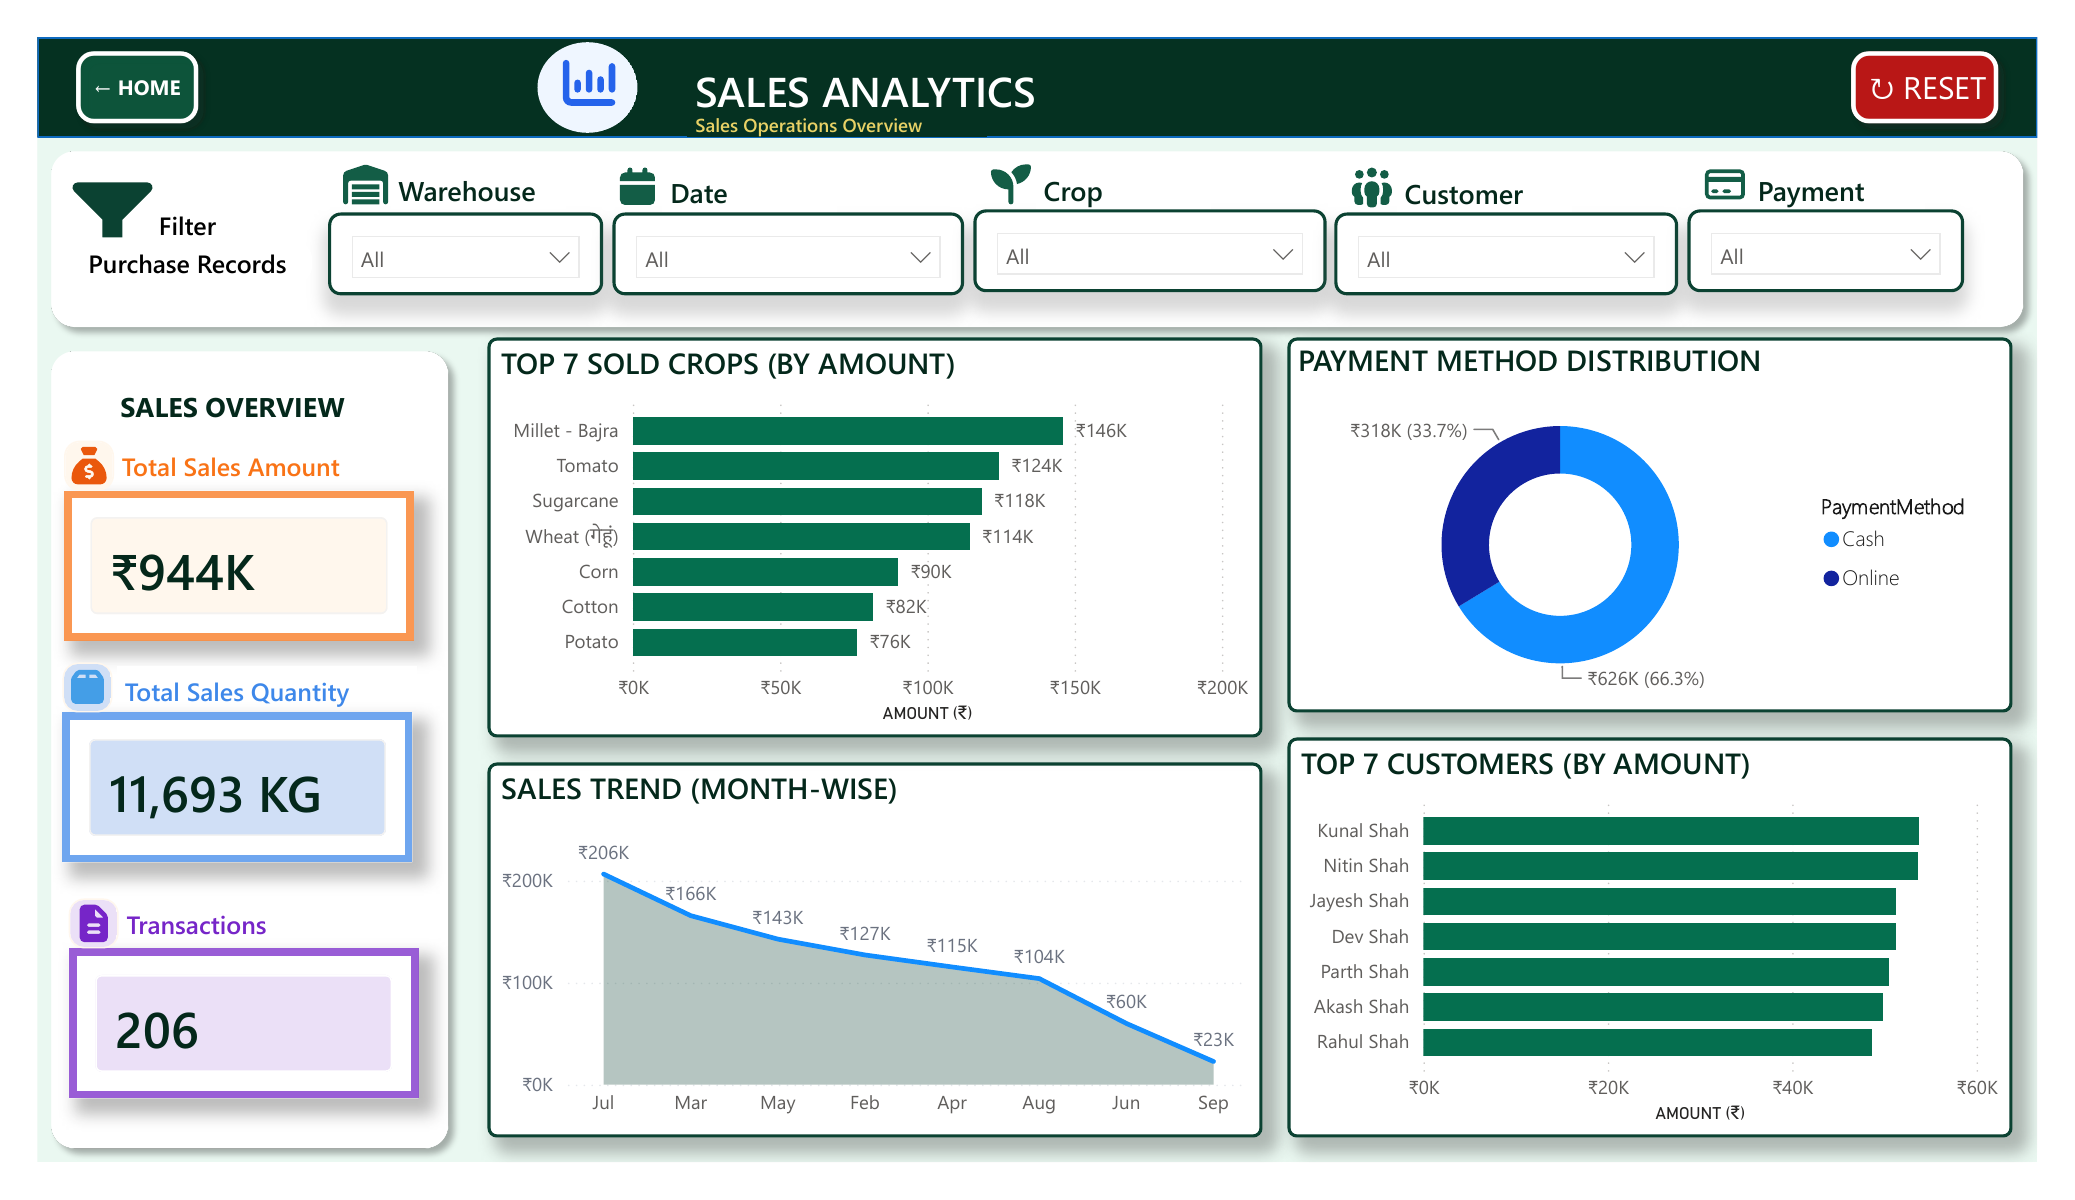

The dashboard page shown, as its layout file describes it:
{"tool":"powerbi","page":{"name":"SALES  ANALYTICS","canvas":[1280,720],"ordinal":2},"visuals":[{"type":"shape","box":[0,0,1280,64],"z":0},{"type":"actionButton","box":[16,0,96,64],"z":1000},{"type":"textbox","title":"SALES ANALYTICS","box":[416,16,336,32],"z":2000},{"type":"textbox","title":"Sales Operations Overview","box":[416,48,192,16],"z":3000},{"type":"actionButton","box":[1152,0,112,64],"z":4000},{"type":"shape","box":[0,64,1280,130],"z":5000},{"type":"shape","box":[64,96,64,48],"z":6000},{"type":"image","box":[16,80,64,64],"z":7000},{"type":"shape","box":[48,224,128,16],"z":8000},{"type":"slicer","title":"Warehouse","fields":{"Values":["Sales.Warehouse"]},"box":[186,112.2,176,53],"z":9000},{"type":"image","box":[194.2,78.4,32,32],"z":10000},{"type":"shape","box":[0,192,272,528],"z":11000},{"type":"textbox","title":"Warehouse","box":[226.2,86.4,112,24],"z":12000},{"type":"slicer","title":"Warehouse","fields":{"Values":["Sales.SalesDate"]},"box":[368,112,225,53],"z":13000},{"type":"image","box":[368,80,32,32],"z":14000},{"type":"textbox","title":"Date","box":[400,80,112,32],"z":15000},{"type":"slicer","title":"Warehouse","fields":{"Values":["Sales.Crop"]},"box":[599.3,109.6,226,53],"z":16000},{"type":"image","box":[607.3,77.6,32,32],"z":17000},{"type":"textbox","title":"Crop","box":[639.3,85.6,112,24],"z":18000},{"type":"slicer","title":"Warehouse","fields":{"Values":["Sales.BuyerName"]},"box":[830.4,112,220,53],"z":19000},{"type":"image","box":[838.4,80,32,32],"z":20000},{"type":"textbox","title":"Customer","box":[870.4,88,112,24],"z":21000},{"type":"slicer","title":"Warehouse","fields":{"Values":["Sales.PaymentMethod"]},"box":[1056.2,110.2,177,53],"z":22000},{"type":"image","box":[1064.2,78.2,32,32],"z":23000},{"type":"textbox","title":"Payment","box":[1096.2,86.2,112,24],"z":24000},{"type":"shape","box":[16,128,160,32],"z":25000},{"type":"textbox","title":"SALES OVERVIEW","box":[48,224,208,32],"z":26000},{"type":"textbox","title":"Total Sales Amount","box":[49.1,258.3,192,32],"z":27000},{"type":"cardVisual","fields":{"Data":["Sales.Total Sales Amount"]},"box":[17.1,290.3,224,96],"z":28000},{"type":"image","box":[17.1,258.3,32,32],"z":29000},{"type":"textbox","title":"Total Sales Quantity","box":[51.1,401.7,192,32],"z":30000},{"type":"cardVisual","fields":{"Data":["Sales.Total Sales Quantity"]},"box":[16,432,224,96],"z":31000},{"type":"image","box":[16,400,32,32],"z":32000},{"type":"textbox","title":"Transactions","box":[51.7,550.5,192,32],"z":33000},{"type":"cardVisual","fields":{"Data":["Sales.Sales Transactions"]},"box":[19.7,582.5,224,96],"z":34000},{"type":"image","box":[19.7,550.5,32,32],"z":35000},{"type":"lineChart","title":"SALES TREND (MONTH-WISE)","fields":{"Category":["Sales.Sales Month Short"],"Y":["Sales.Total Sales Amount"]},"box":[288,464,496,240],"z":36000},{"type":"clusteredBarChart","title":"TOP 7 SOLD CROPS (BY AMOUNT)","fields":{"Category":["Sales.Crop"],"Y":["Sales.Total Sales Amount"]},"box":[288,192,496,256],"z":37000},{"type":"clusteredBarChart","title":"TOP 7 CUSTOMERS (BY AMOUNT)","fields":{"Category":["Sales.BuyerName"],"Y":["Sales.Total Sales Amount"]},"box":[800,448,464,256],"z":38000},{"type":"donutChart","title":"PAYMENT METHOD DISTRIBUTION","fields":{"Category":["Sales.PaymentMethod"],"Y":["Sales.Total Sales Amount"]},"box":[800,192,464,240],"z":39000},{"type":"shape","box":[320,0,64,64],"z":40000},{"type":"image","box":[320,0,79,50],"z":41000}]}

Visuals, with their boxes on the page's 1280x720 design canvas (x1, y1, x2, y2). These are canvas units, not pixel positions in the 2075x1200 screenshot, which may show the page scaled, cropped or inside an application window:
shape: BBox(0, 0, 1280, 64)
actionButton: BBox(16, 0, 112, 64)
"SALES ANALYTICS" textbox: BBox(416, 16, 752, 48)
"Sales Operations Overview" textbox: BBox(416, 48, 608, 64)
actionButton: BBox(1152, 0, 1264, 64)
shape: BBox(0, 64, 1280, 194)
shape: BBox(64, 96, 128, 144)
image: BBox(16, 80, 80, 144)
shape: BBox(48, 224, 176, 240)
"Warehouse" slicer: BBox(186, 112, 362, 165)
image: BBox(194, 78, 226, 110)
shape: BBox(0, 192, 272, 720)
"Warehouse" textbox: BBox(226, 86, 338, 110)
"Warehouse" slicer: BBox(368, 112, 593, 165)
image: BBox(368, 80, 400, 112)
"Date" textbox: BBox(400, 80, 512, 112)
"Warehouse" slicer: BBox(599, 110, 825, 163)
image: BBox(607, 78, 639, 110)
"Crop" textbox: BBox(639, 86, 751, 110)
"Warehouse" slicer: BBox(830, 112, 1050, 165)
image: BBox(838, 80, 870, 112)
"Customer" textbox: BBox(870, 88, 982, 112)
"Warehouse" slicer: BBox(1056, 110, 1233, 163)
image: BBox(1064, 78, 1096, 110)
"Payment" textbox: BBox(1096, 86, 1208, 110)
shape: BBox(16, 128, 176, 160)
"SALES OVERVIEW" textbox: BBox(48, 224, 256, 256)
"Total Sales Amount" textbox: BBox(49, 258, 241, 290)
cardVisual - Sales.Total Sales Amount: BBox(17, 290, 241, 386)
image: BBox(17, 258, 49, 290)
"Total Sales Quantity" textbox: BBox(51, 402, 243, 434)
cardVisual - Sales.Total Sales Quantity: BBox(16, 432, 240, 528)
image: BBox(16, 400, 48, 432)
"Transactions" textbox: BBox(52, 550, 244, 582)
cardVisual - Sales.Sales Transactions: BBox(20, 582, 244, 678)
image: BBox(20, 550, 52, 582)
"SALES TREND (MONTH-WISE)" lineChart: BBox(288, 464, 784, 704)
"TOP 7 SOLD CROPS (BY AMOUNT)" clusteredBarChart: BBox(288, 192, 784, 448)
"TOP 7 CUSTOMERS (BY AMOUNT)" clusteredBarChart: BBox(800, 448, 1264, 704)
"PAYMENT METHOD DISTRIBUTION" donutChart: BBox(800, 192, 1264, 432)
shape: BBox(320, 0, 384, 64)
image: BBox(320, 0, 399, 50)
